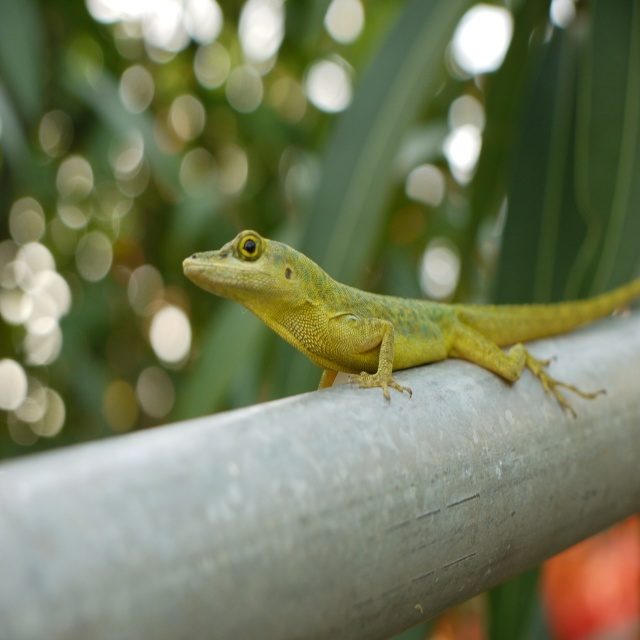Lizard: (183, 229, 640, 419)
